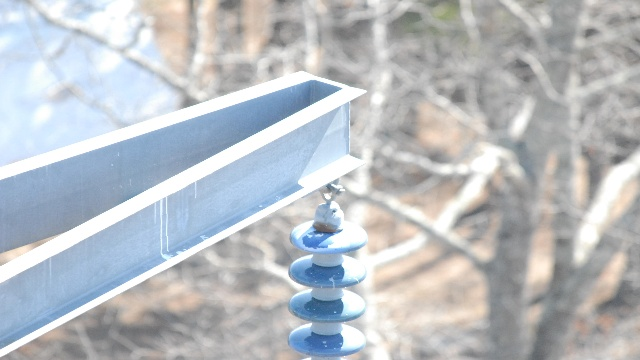insulator_unspecified: (285, 220, 366, 356)
pollution_flashover_local: (297, 225, 340, 250)
